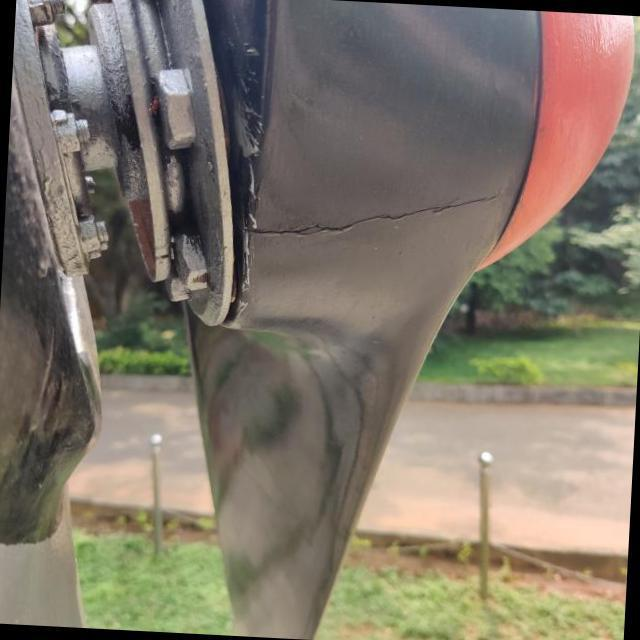Rupture: (250, 152, 512, 278)
